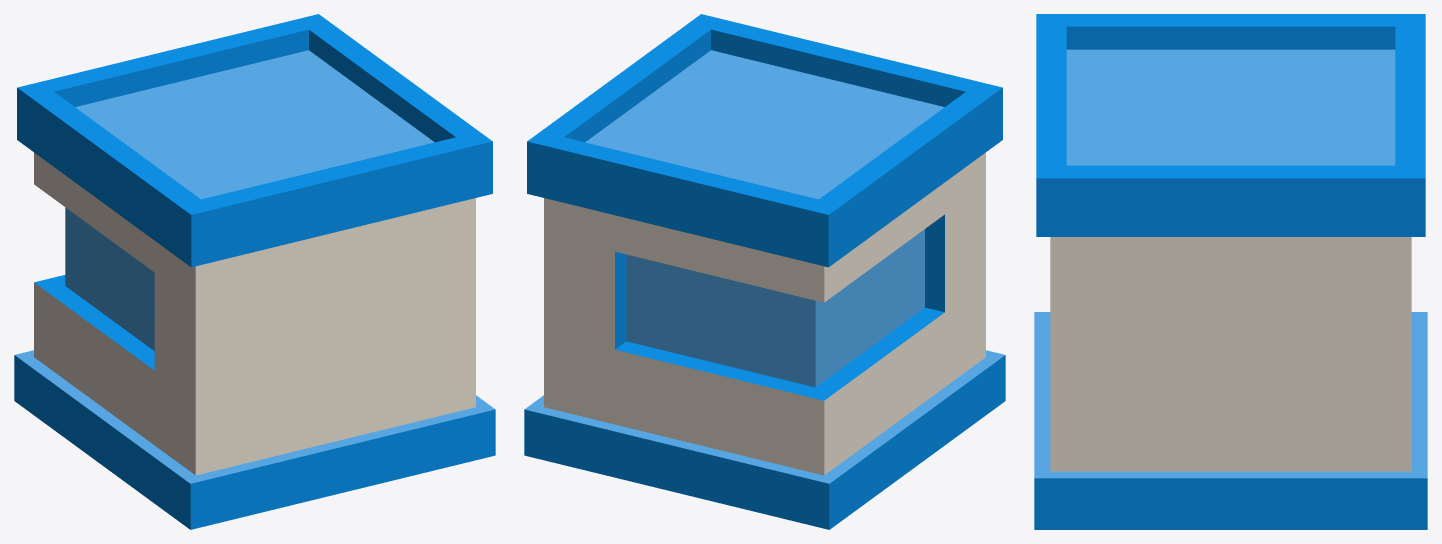
Rendered from Map-House-S-Lv1-B.fbx.
The picture shows the model from 3 angles, left to right: view 1: azimuth 30°, elevation 25°; view 2: azimuth 150°, elevation 25°; view 3: azimuth 270°, elevation 25°; orthographic projection. The views are drawn at different scales.
Visible parts, largest first — view 1: Map-House-S-Lv1-B; view 2: Map-House-S-Lv1-B; view 3: Map-House-S-Lv1-B.
Part boxes in pixels (box(x1,y1,x2,y2)): Map-House-S-Lv1-B: box(14, 14, 495, 529); Map-House-S-Lv1-B: box(524, 14, 1005, 529); Map-House-S-Lv1-B: box(1034, 14, 1427, 529).
Size of the model in its own units: 1.11 by 1.09 by 1.11.
